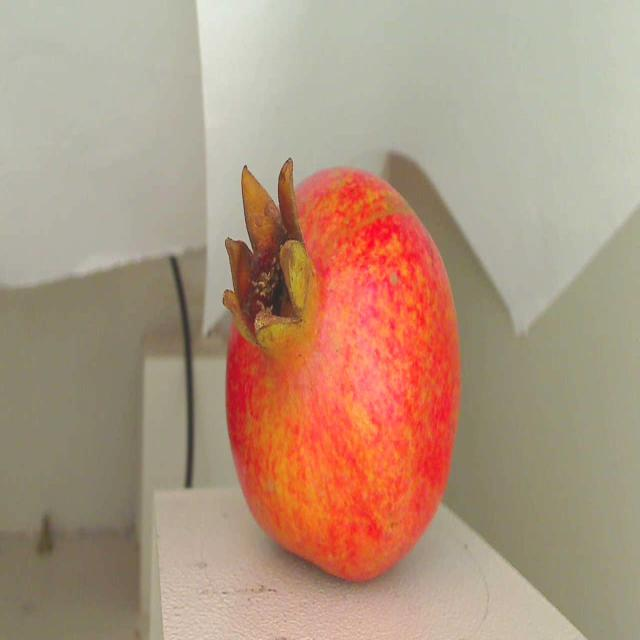pomegranate: (209, 142, 471, 587)
